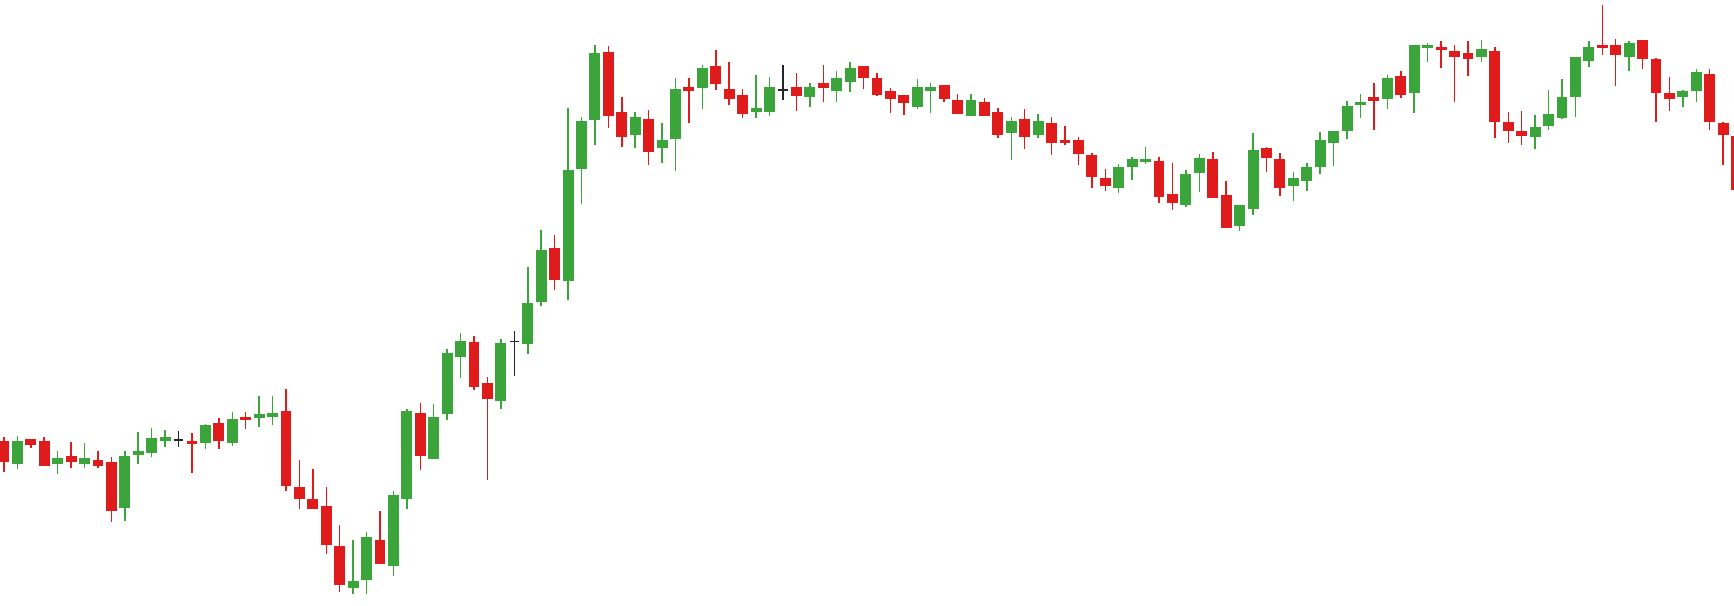buy: (414, 370, 497, 485)
sell: (1448, 6, 1611, 88)
